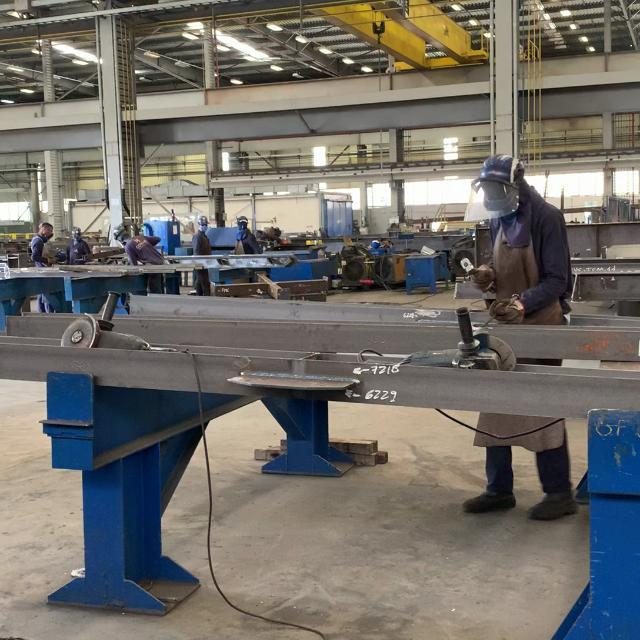face-shield: (460, 181, 519, 220)
glove: (487, 298, 524, 323), (469, 265, 495, 292)
helmet: (469, 153, 525, 190)
person: (461, 153, 579, 518)
safety-shoe: (526, 489, 578, 518), (462, 491, 516, 514)
